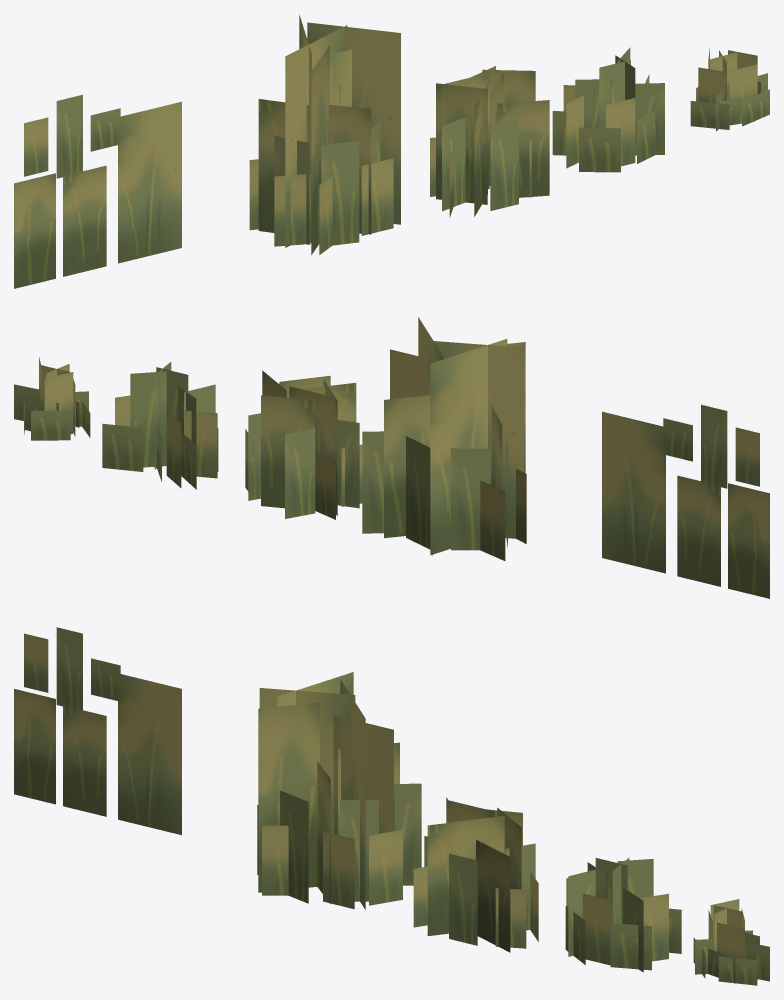
The model's file is pine_tall_01.glb.
3 views of the same model, one above another, from view 1: azimuth 30°, elevation 25°; view 2: azimuth 150°, elevation 25°; view 3: azimuth 330°, elevation 25° (orthographic).
Parts seen in each view (by area): view 1: pine_tall_01; view 2: pine_tall_01; view 3: pine_tall_01.
Boxes of the visible parts, x1,y1,x2,y2 form: pine_tall_01: (14,14,769,288); pine_tall_01: (14,317,769,598); pine_tall_01: (14,627,769,985).
Bounding box in the file's own units: 18.04 × 4.5 × 2.37.
1 material, 1 textured.
